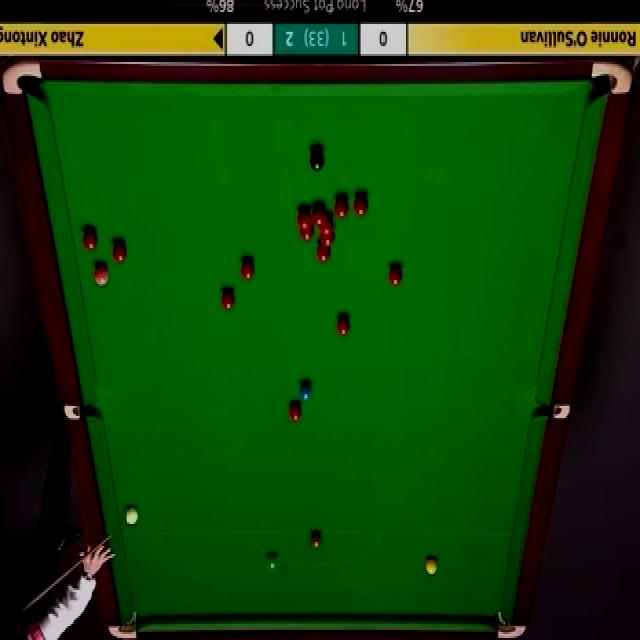black-ball: (309, 144, 325, 174)
blue-ball: (298, 381, 312, 402)
brown-ball: (310, 530, 323, 550)
green-ball: (266, 551, 279, 571)
pink-ball: (93, 262, 109, 288)
red-ball: (333, 192, 350, 220), (387, 261, 404, 288), (81, 228, 98, 251), (354, 194, 370, 218), (110, 240, 126, 264), (297, 205, 312, 230), (241, 256, 256, 280), (220, 288, 235, 312), (336, 314, 351, 336), (312, 205, 326, 227), (316, 246, 332, 263), (289, 402, 303, 421), (320, 216, 334, 234), (320, 232, 334, 248), (300, 227, 314, 240)
white-ball: (124, 504, 138, 524)
yellow-ball: (424, 554, 437, 575)
